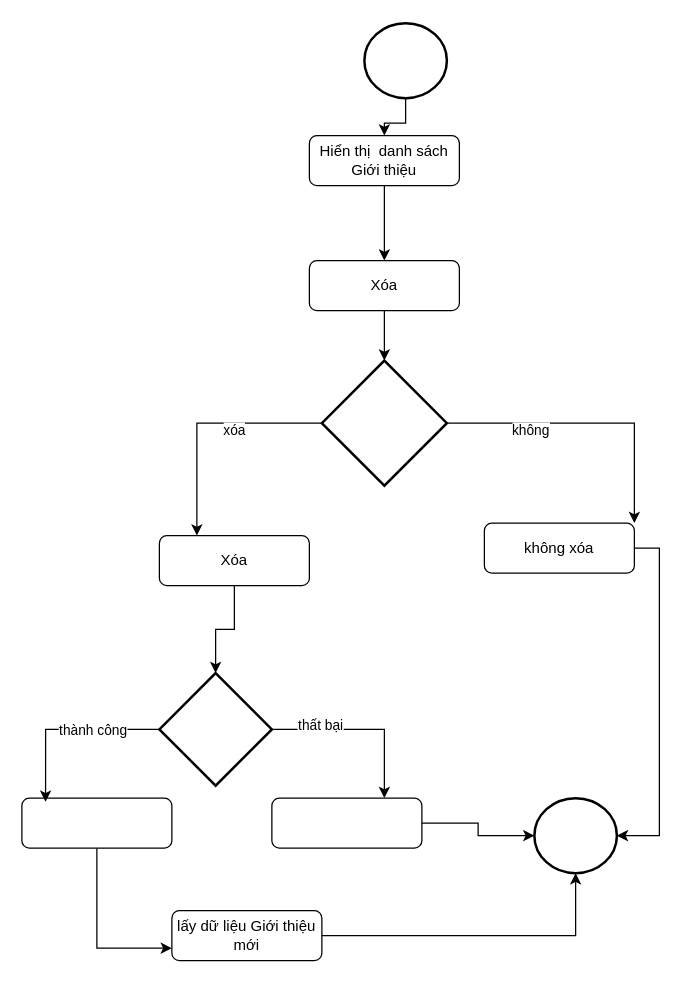
The diagram is 691 pixels wide and 983 high, and some of its shapes have lost their labels. The centre of each missing label's shape, as x and y in pixels:
Thông báo lỗi: the point at 346,822
Thông báo thành công: the point at 96,822
Xác nhận: the point at 384,422
